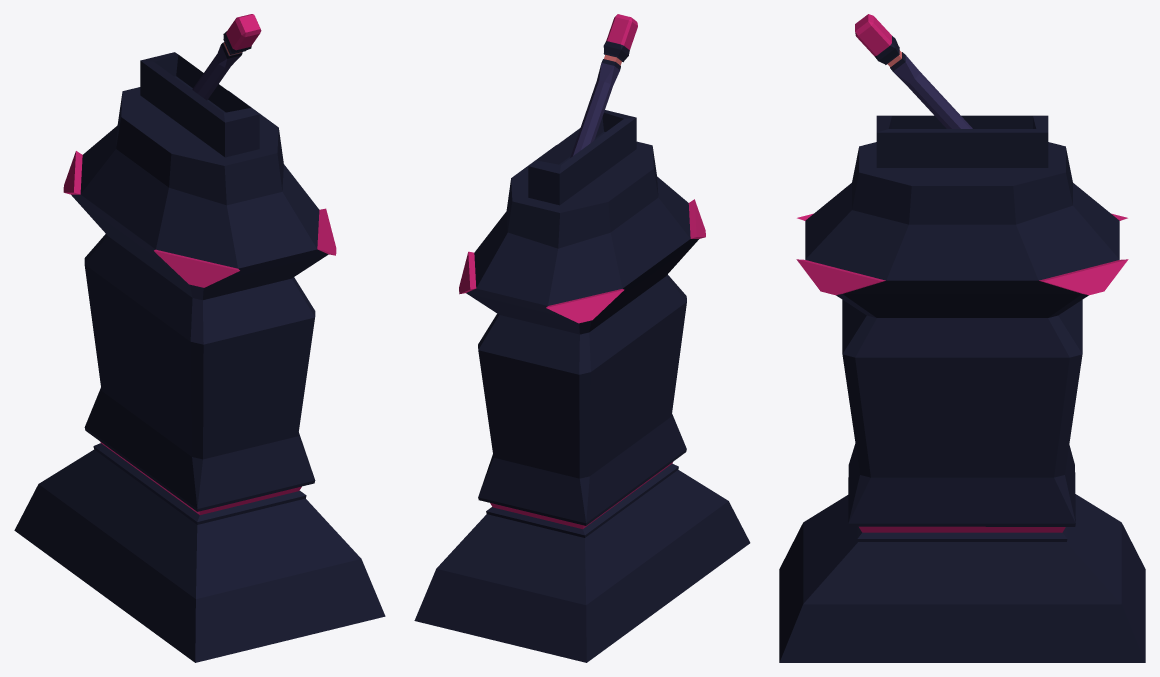
File: c_lever.glb
The picture shows the model from 3 angles, left to right: view 1: azimuth 30°, elevation 25°; view 2: azimuth 150°, elevation 25°; view 3: azimuth 270°, elevation 25°; orthographic projection. The views are drawn at different scales.
Parts seen in each view (by area): view 1: C_LeverBase, C_Lever; view 2: C_LeverBase, C_Lever; view 3: C_LeverBase, C_Lever.
Boxes of the visible parts, box(x1,y1,x2,y2) form: C_LeverBase: box(14, 52, 385, 662); C_Lever: box(192, 14, 261, 100); C_LeverBase: box(414, 110, 750, 662); C_Lever: box(570, 14, 637, 157); C_LeverBase: box(779, 115, 1145, 662); C_Lever: box(855, 14, 972, 128).
Size of the model in its own units: 0.3349 by 0.9946 by 0.5515.
1 material, 1 textured.
